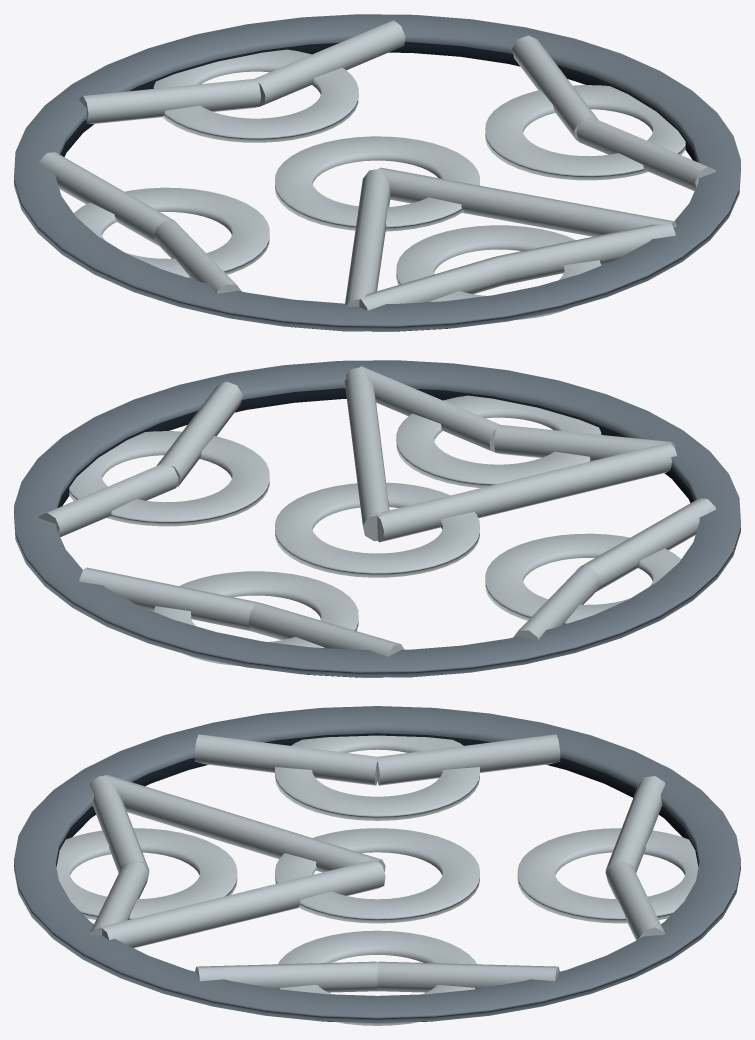
The model's file is s_ic_engine_frame.glb.
3 views of the same model, one above another, from view 1: azimuth 30°, elevation 25°; view 2: azimuth 150°, elevation 25°; view 3: azimuth 270°, elevation 25° (orthographic).
Parts seen in each view (by area): view 1: s_ic_engine_frame.mesh_Satin_aluminum, s_ic_engine_frame.mesh_Machined_steel, s_ic_engine_frame.mesh_Shadowed_interior; view 2: s_ic_engine_frame.mesh_Satin_aluminum, s_ic_engine_frame.mesh_Machined_steel, s_ic_engine_frame.mesh_Shadowed_interior; view 3: s_ic_engine_frame.mesh_Satin_aluminum, s_ic_engine_frame.mesh_Machined_steel, s_ic_engine_frame.mesh_Shadowed_interior.
Part boxes in pixels (x1,y1,x2,y2): s_ic_engine_frame.mesh_Satin_aluminum: (39,20,715,319); s_ic_engine_frame.mesh_Machined_steel: (14,14,740,331); s_ic_engine_frame.mesh_Shadowed_interior: (60,42,696,331); s_ic_engine_frame.mesh_Satin_aluminum: (39,366,715,665); s_ic_engine_frame.mesh_Machined_steel: (14,360,740,677); s_ic_engine_frame.mesh_Shadowed_interior: (58,388,694,677); s_ic_engine_frame.mesh_Satin_aluminum: (56,734,698,1025); s_ic_engine_frame.mesh_Machined_steel: (14,706,740,1023); s_ic_engine_frame.mesh_Shadowed_interior: (56,733,698,1021).
Size of the model in its own units: 9.98 by 0.5392 by 9.98.
